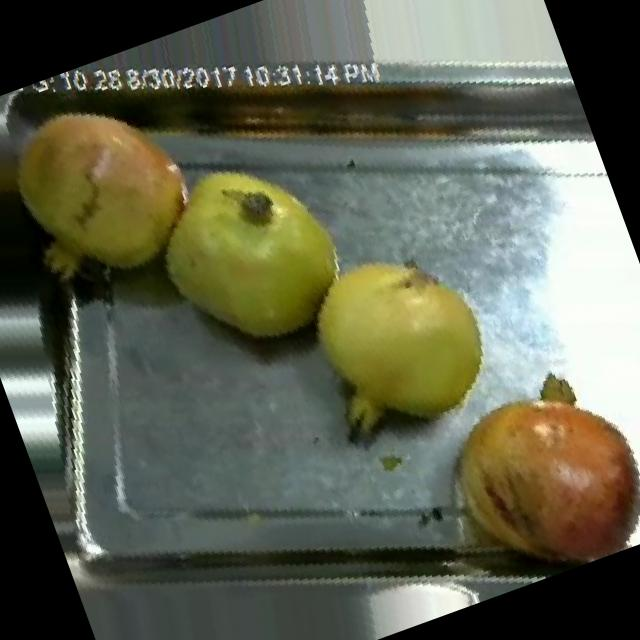fruit: (261, 201, 537, 476), (120, 122, 392, 393), (399, 329, 640, 605), (0, 50, 235, 323)
